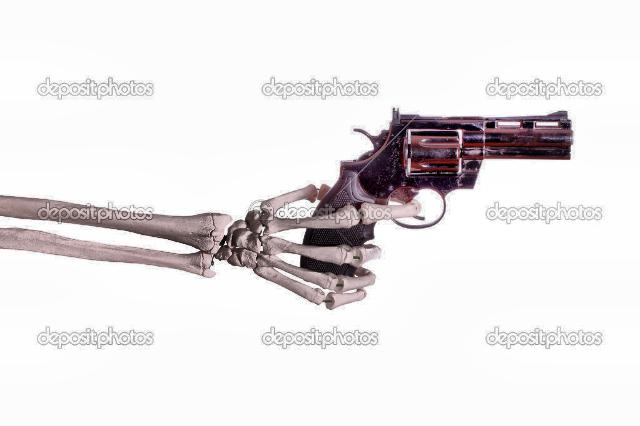pistol: (296, 104, 576, 286)
